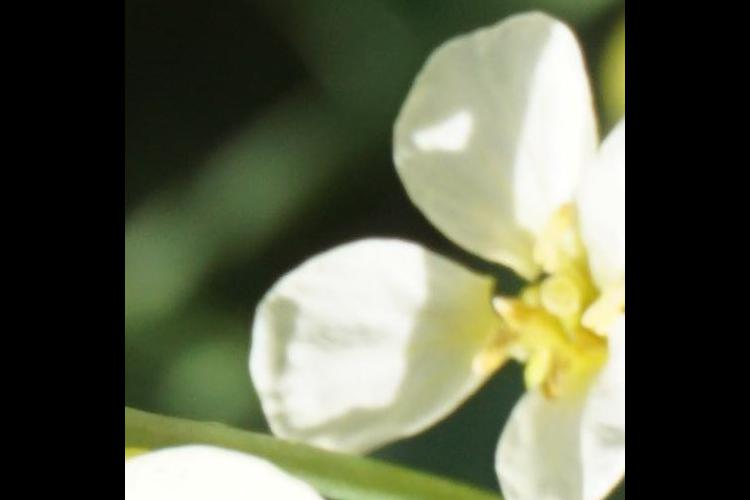white: (258, 20, 611, 500), (128, 451, 344, 500)
